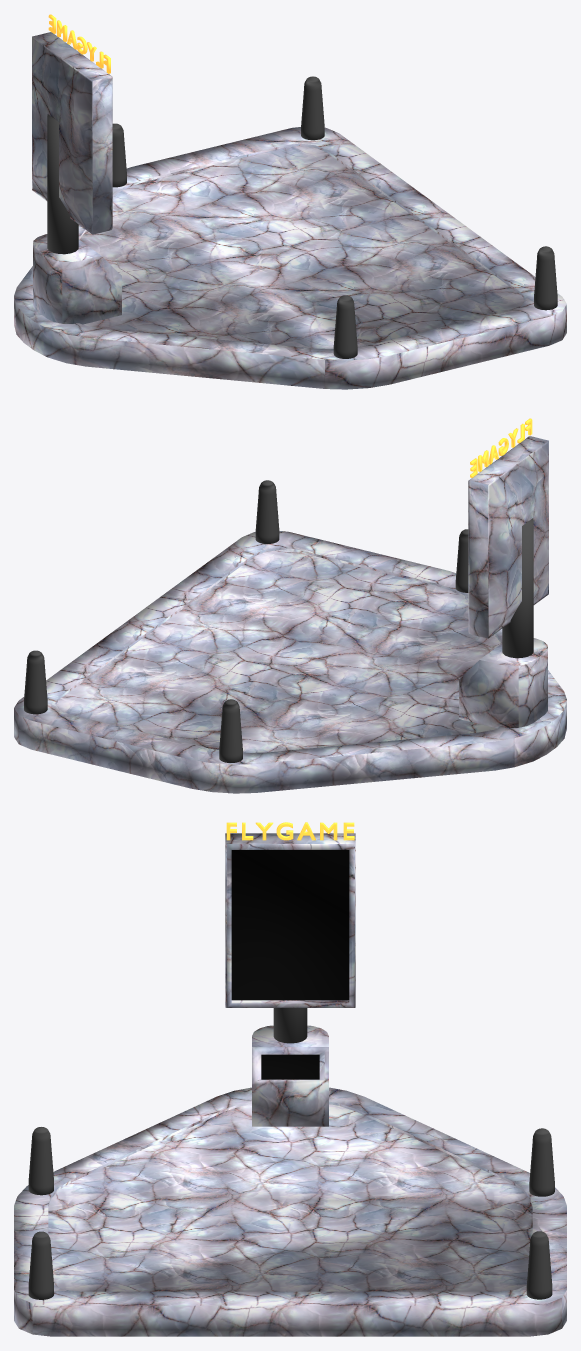
Rendered from FlygameStart.fbx.
3 views of the same model, one above another, from view 1: azimuth 30°, elevation 25°; view 2: azimuth 150°, elevation 25°; view 3: azimuth 270°, elevation 25° (orthographic). The views are drawn at different scales.
Visible parts, largest first — view 1: Text; view 2: Text; view 3: Text.
Part boxes in pixels (box(x1,y1,x2,y2)): Text: box(14, 14, 566, 389); Text: box(14, 418, 566, 793); Text: box(14, 822, 566, 1336).
Bounding box in the file's own units: 802 × 542 × 850.
Materials: 4 (2 with a texture image).
